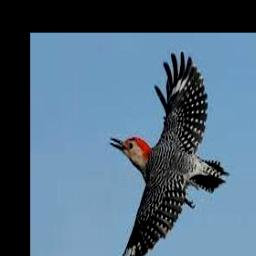Woodpecker: (93, 51, 229, 256)
